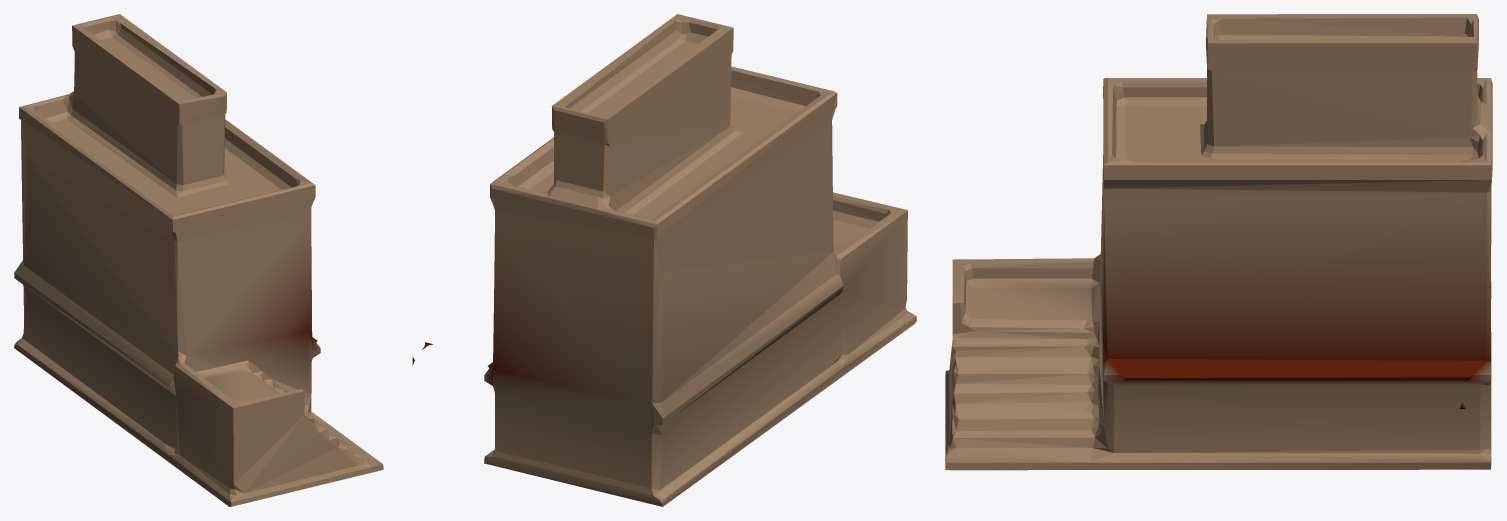
File: Desert Houses(1).glb
The picture shows the model from 3 angles, left to right: view 1: azimuth 30°, elevation 25°; view 2: azimuth 150°, elevation 25°; view 3: azimuth 270°, elevation 25°; orthographic projection. The views are drawn at different scales.
Parts seen in each view (by area): view 1: Root; view 2: Root; view 3: Root.
Part boxes in pixels (x1=…): Root: x1=14, y1=14, x2=383, y2=506; Root: x1=412, y1=14, x2=916, y2=506; Root: x1=945, y1=14, x2=1492, y2=470.
Size of the model in its own units: 5.76 by 8.11 by 10.13.
